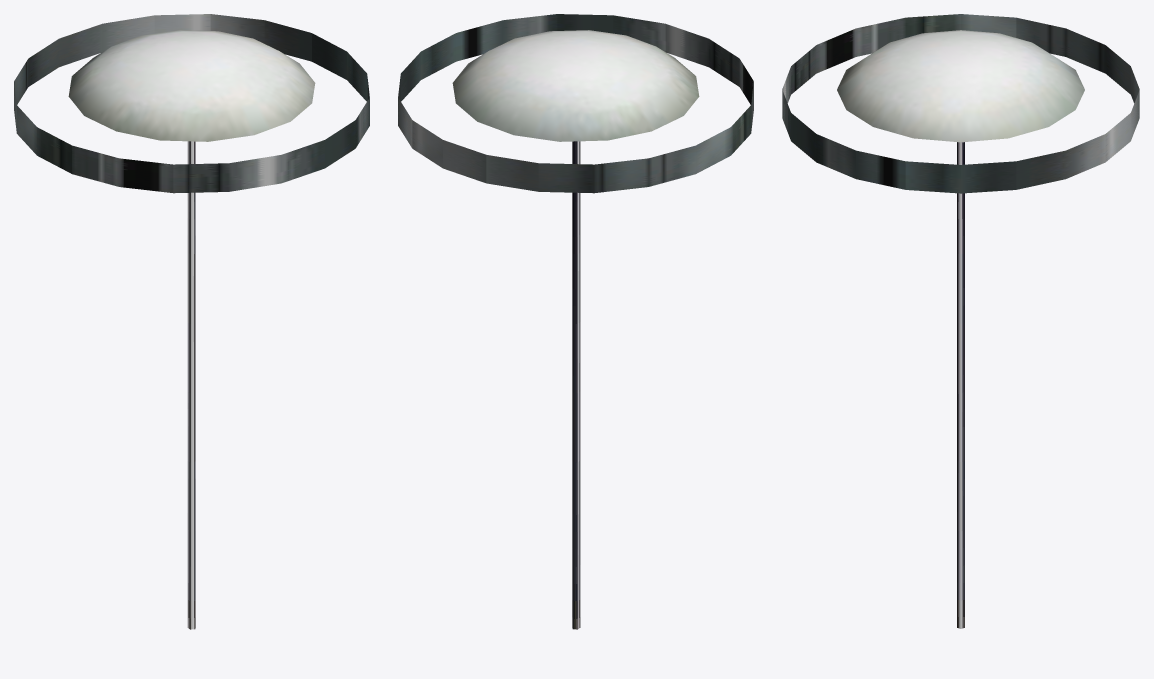
The model's file is corporate_chandelier_5.fbx.
The picture shows the model from 3 angles, left to right: view 1: azimuth 30°, elevation 25°; view 2: azimuth 150°, elevation 25°; view 3: azimuth 270°, elevation 25°; orthographic projection.
Parts seen in each view (by area): view 1: mesh_1, mesh_2, mesh_0; view 2: mesh_1, mesh_2, mesh_0; view 3: mesh_1, mesh_2, mesh_0.
Boxes of the visible parts, bbox=[...] form: mesh_1: bbox=[68, 30, 315, 141]; mesh_2: bbox=[14, 14, 369, 193]; mesh_0: bbox=[187, 141, 195, 629]; mesh_1: bbox=[452, 30, 699, 141]; mesh_2: bbox=[398, 14, 753, 193]; mesh_0: bbox=[572, 141, 580, 629]; mesh_1: bbox=[837, 30, 1084, 142]; mesh_2: bbox=[782, 14, 1139, 193]; mesh_0: bbox=[957, 142, 964, 628].
Bounding box in the file's own units: 119 × 210 × 119.
Materials: 3 (3 with a texture image).
